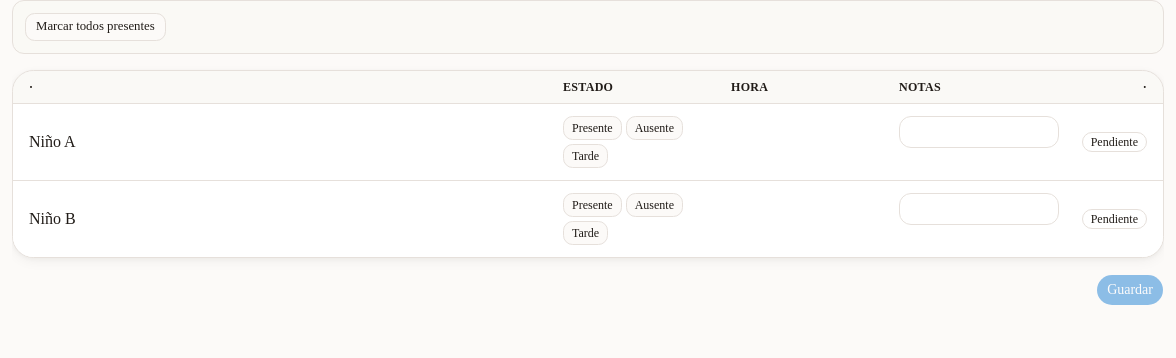
Test case: <PaseDeListaTable /> — componente genérico de pase de lista › marca como error y muestra mensaje global tras submit fallido
Click the radio button with test id "pase-cell-n1-estado-ausente" at (654, 128), box left=626, top=116, right=683, bottom=140
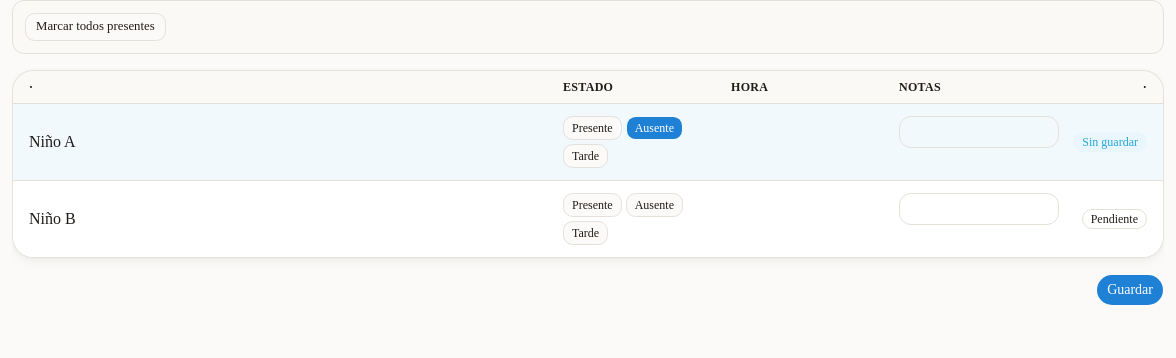
Click the button with test id "pase-submit" at (1130, 290), box left=1096, top=274, right=1164, bottom=306
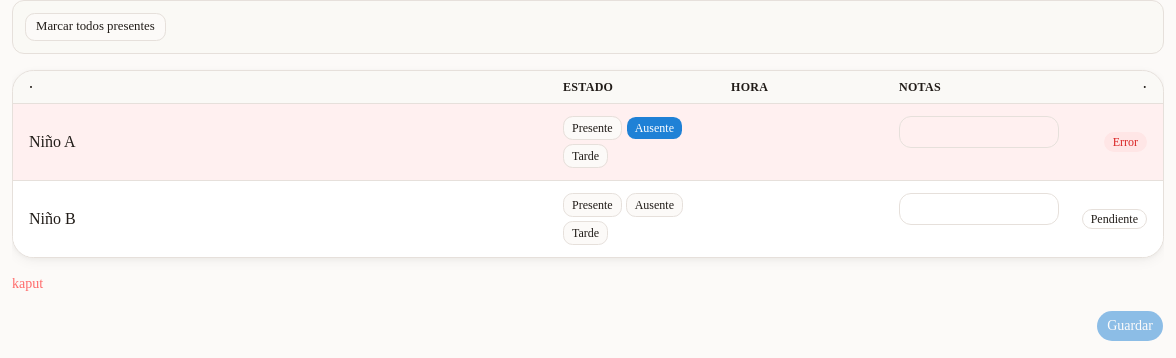
Expected: the message reads "kaput", left=12, top=276, right=43, bottom=291
